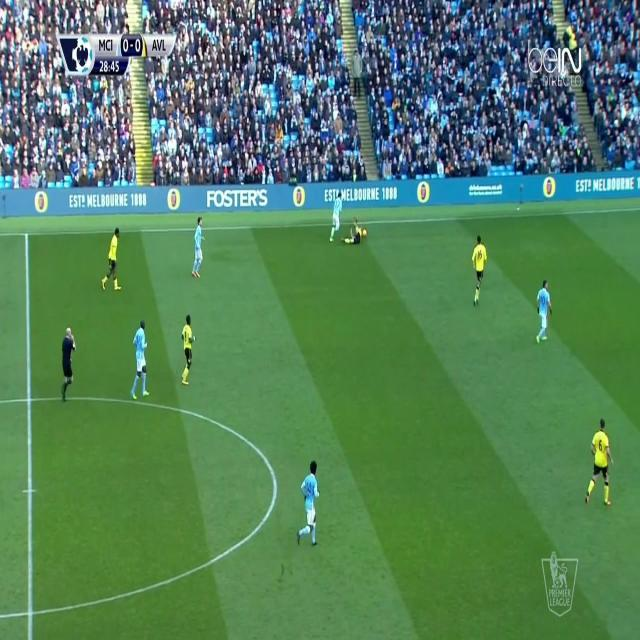Ball: (361, 228, 369, 239)
Player: (584, 417, 614, 511), (294, 458, 321, 553), (128, 319, 150, 404), (533, 278, 554, 346), (469, 233, 488, 308), (101, 224, 121, 295), (180, 314, 197, 391), (190, 217, 206, 281), (328, 192, 345, 245), (340, 218, 362, 247)
Referee: (59, 325, 77, 406)
